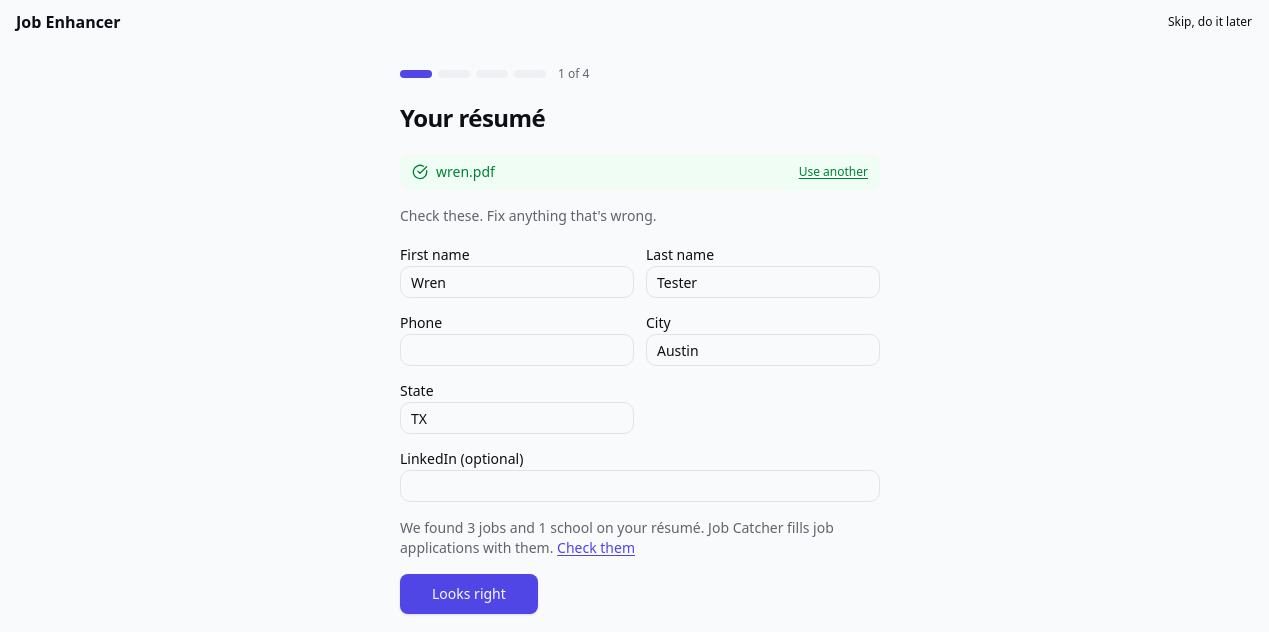
Test case: Welcome › reads the résumé, then Looks right saves the profile and marks it checked
Expected: the field labelled "First name" holds "Wren", [400,266,634,298]
Expected: the element with test id "welcome-found" shows "3 jobs and 1 school", [400,518,880,558]
Replace the text in the field labelled "City" with "Denver" at x=763, y=350, box [646,334,880,366]
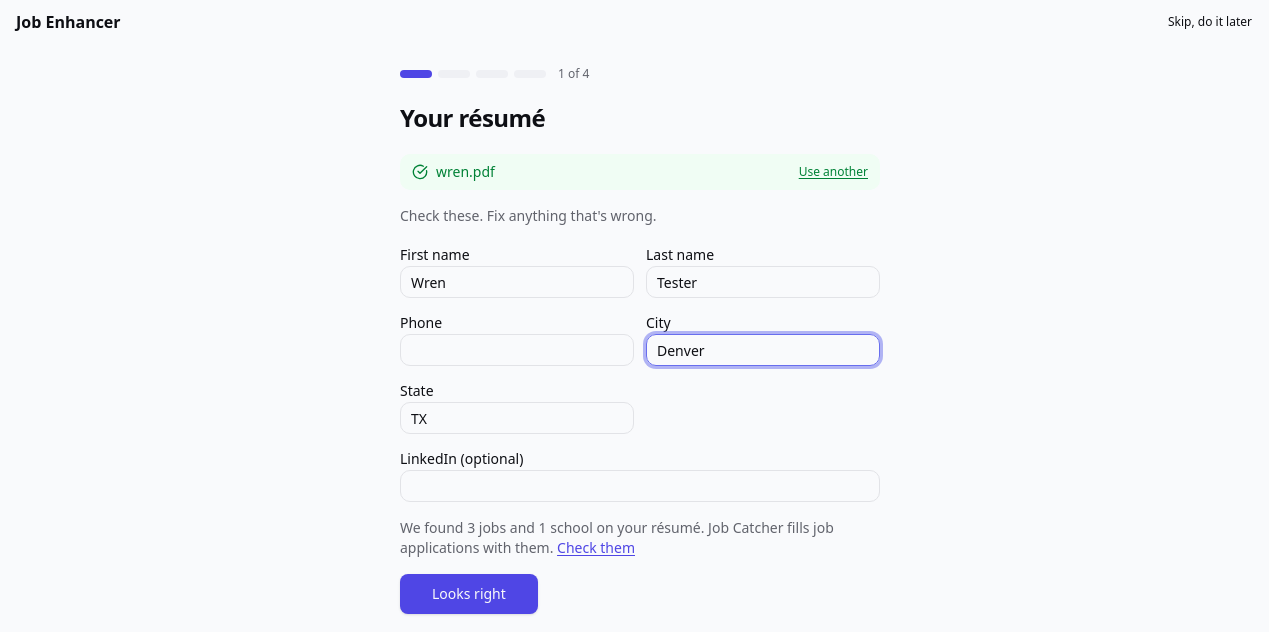
Click the button "Looks right" at x=469, y=594, box [400,574,538,614]
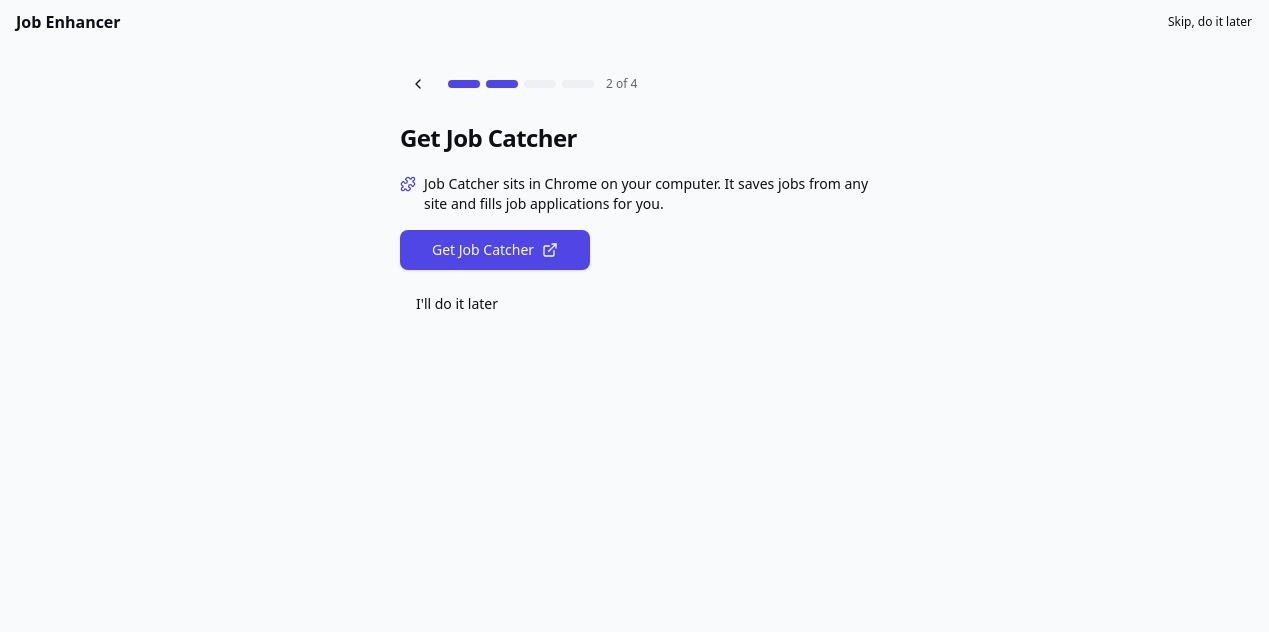
Now the heading "Get Job Catcher" is shown, box [400,121,577,154]
